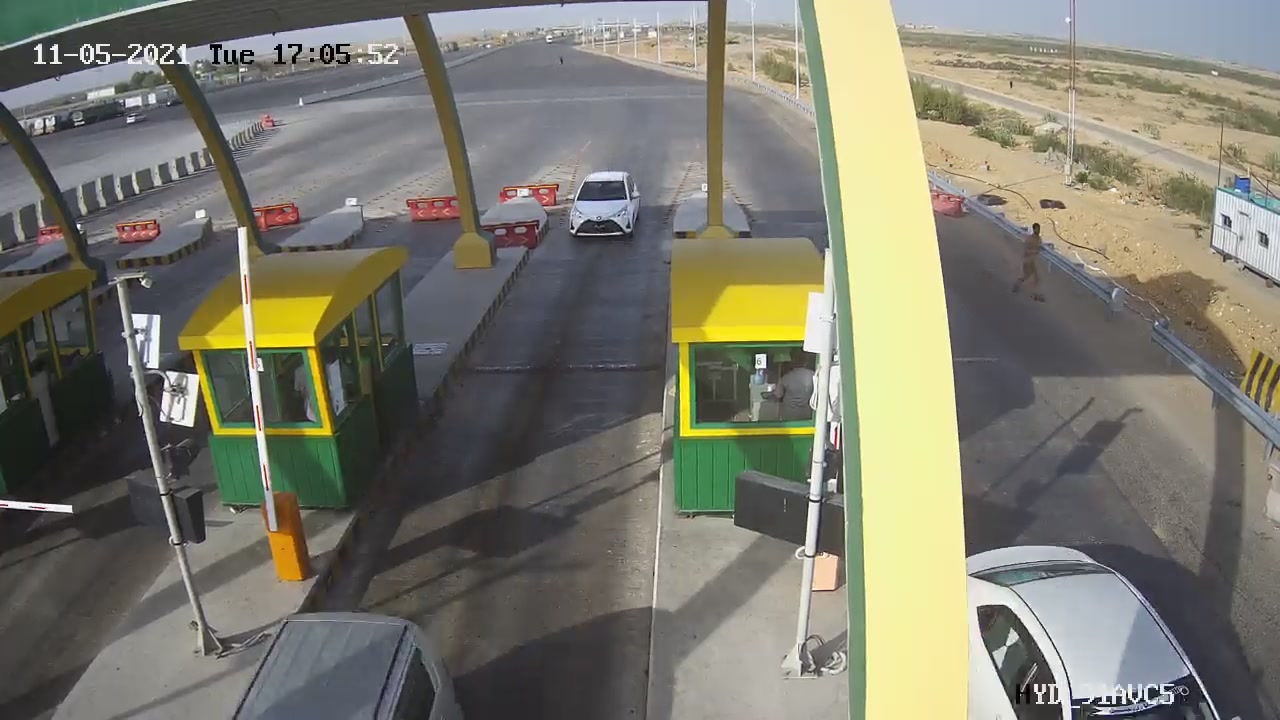F1: (552, 160, 659, 253)
